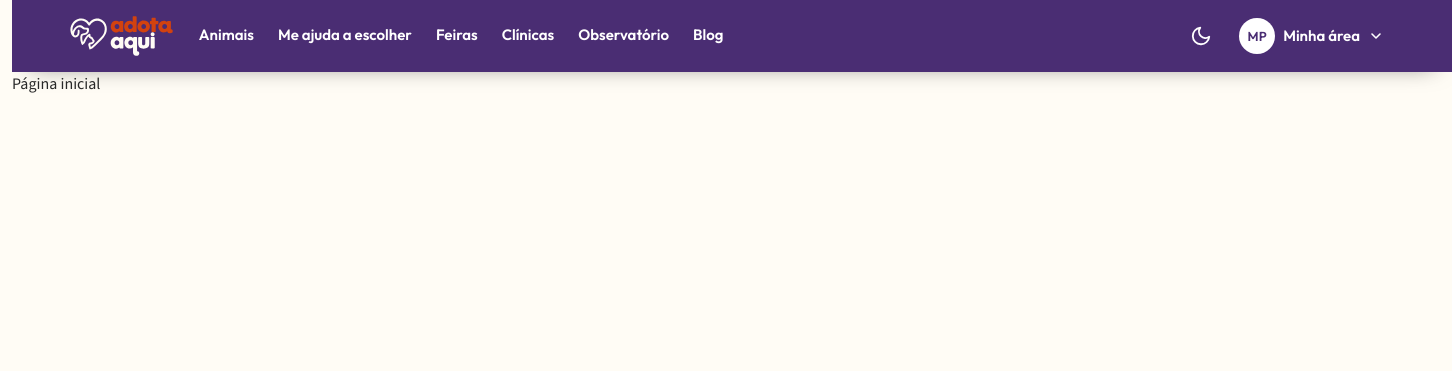
Test: trocar de página fecha a Minha área
What coordinates should you click on to do the following:
click the button "MP Minha área"
I would click on:
 (1316, 36)
Its box is top-left (1235, 14), bottom-right (1396, 58).
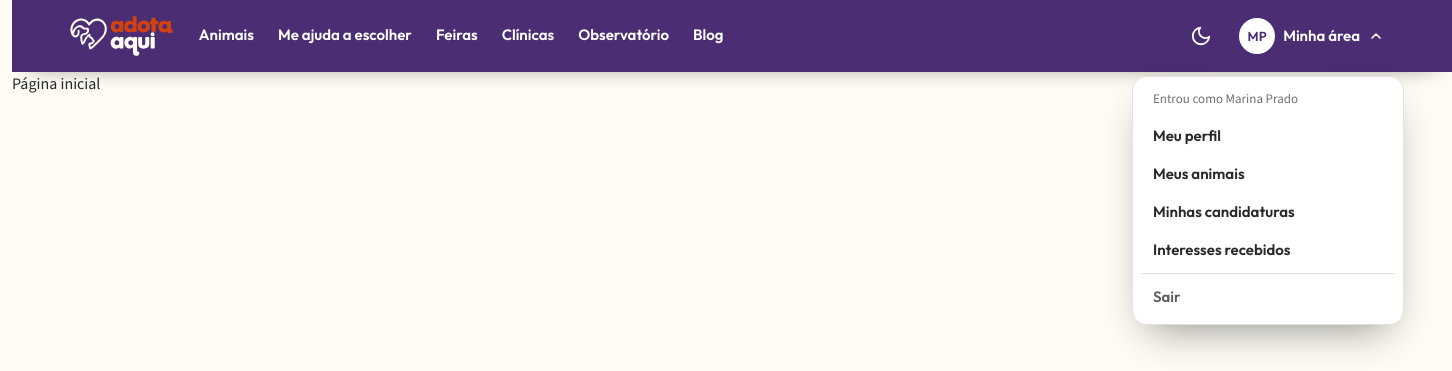
What coordinates should you click on to do the following:
click the link "Meus animais"
I would click on:
 (1199, 173)
Its box is top-left (1153, 164), bottom-right (1244, 182).
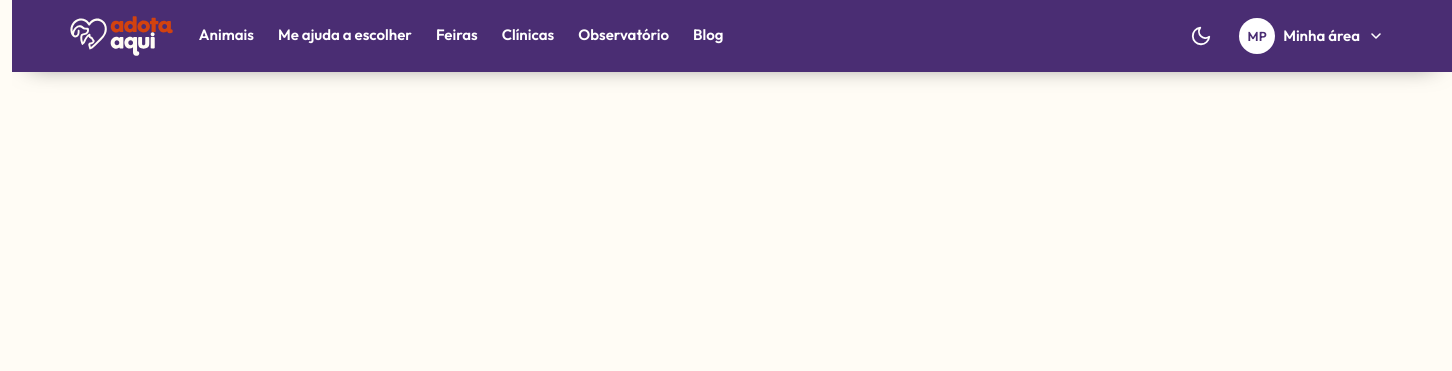
Expected: the button "MP Minha área" is collapsed, top-left (1235, 14), bottom-right (1396, 58)
Expected: the link "Meu perfil" is gone
